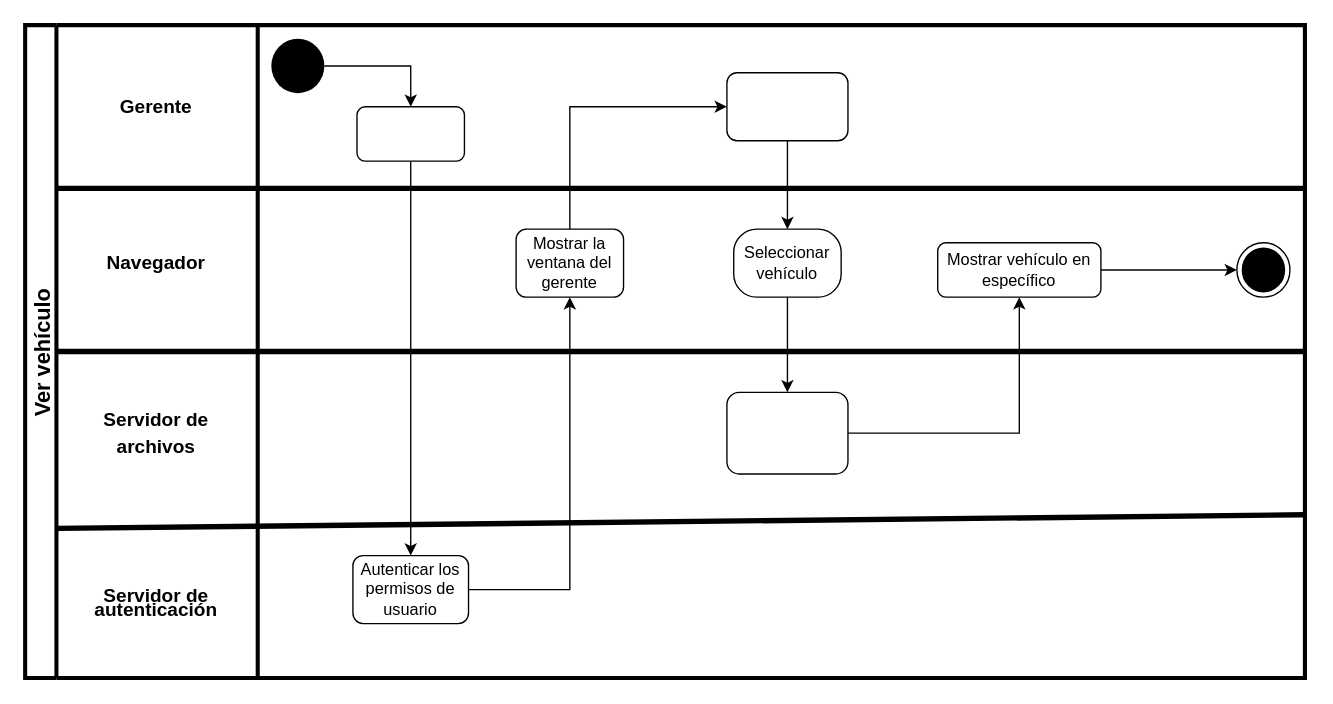
Image size: 1333x704. Some labels were removed from this diagram. Here are the shapes that lost their labels. From the top down, the centre of each, then its label:
At pixel 787 106: "Seleccionar la ventana de vehículos".
At pixel 410 133: "Ingresar su usuario".
At pixel 787 432: "Obtener datos del vehículo seleccionado".
